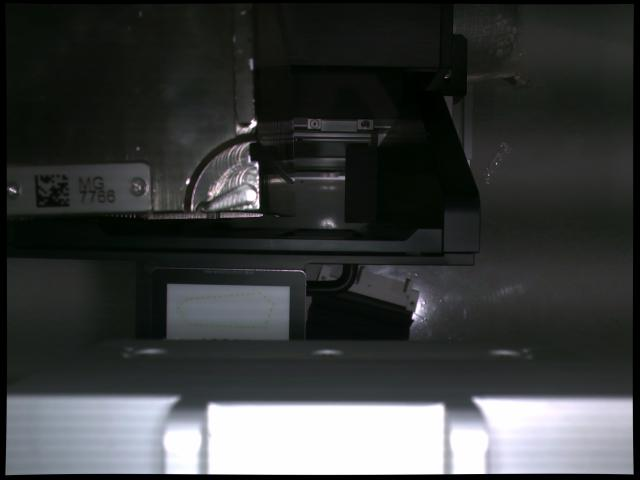jig_latch: (200, 184, 257, 213)
